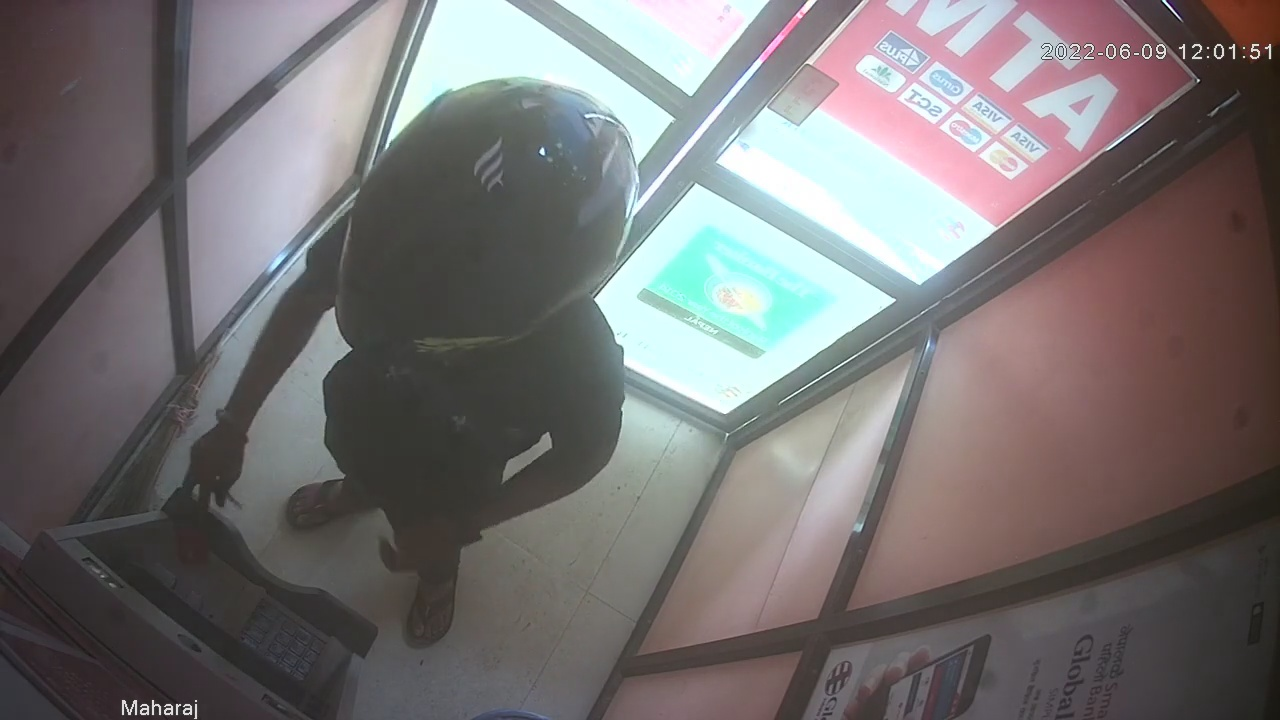helmet: (331, 75, 639, 360)
person: (179, 75, 643, 645)
